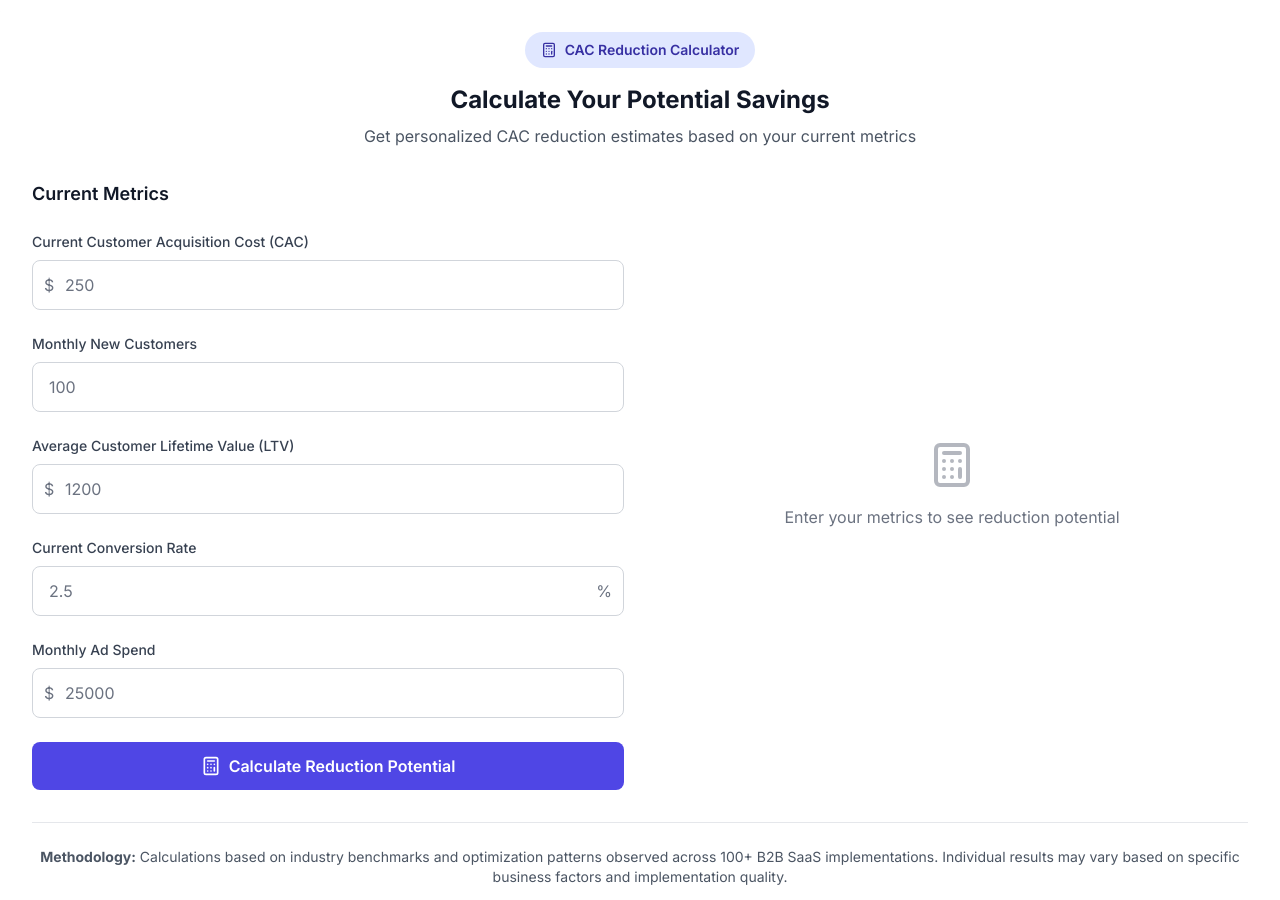
Test: CACReductionCalculator › displays current and optimized CAC values correctly
Fill inputs with known values
Type "200" into the number field with placeholder "250". click: (328, 285)
box: [32, 260, 624, 310]
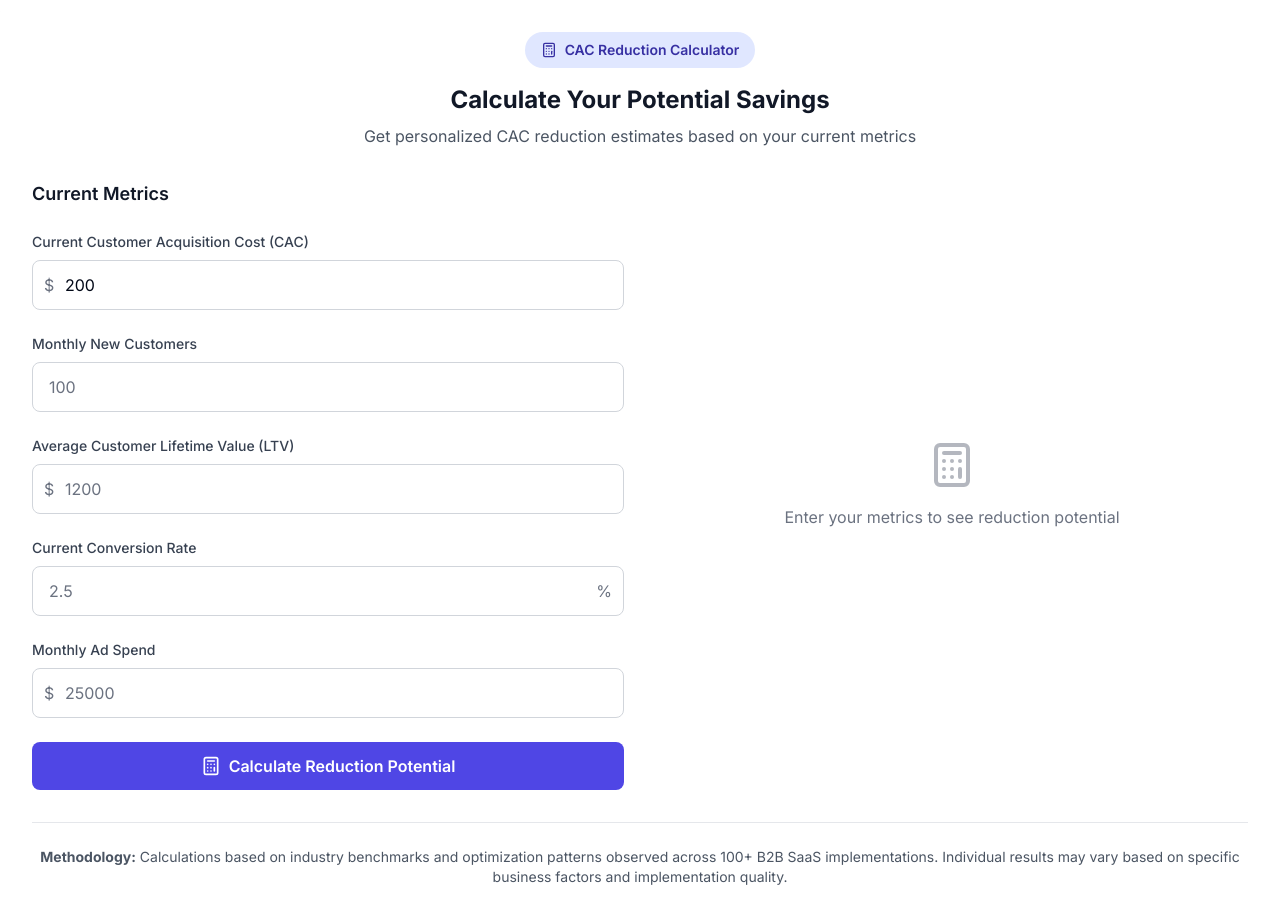
Type "50" into the number field with placeholder "100". click: (328, 387)
box: [32, 362, 624, 412]
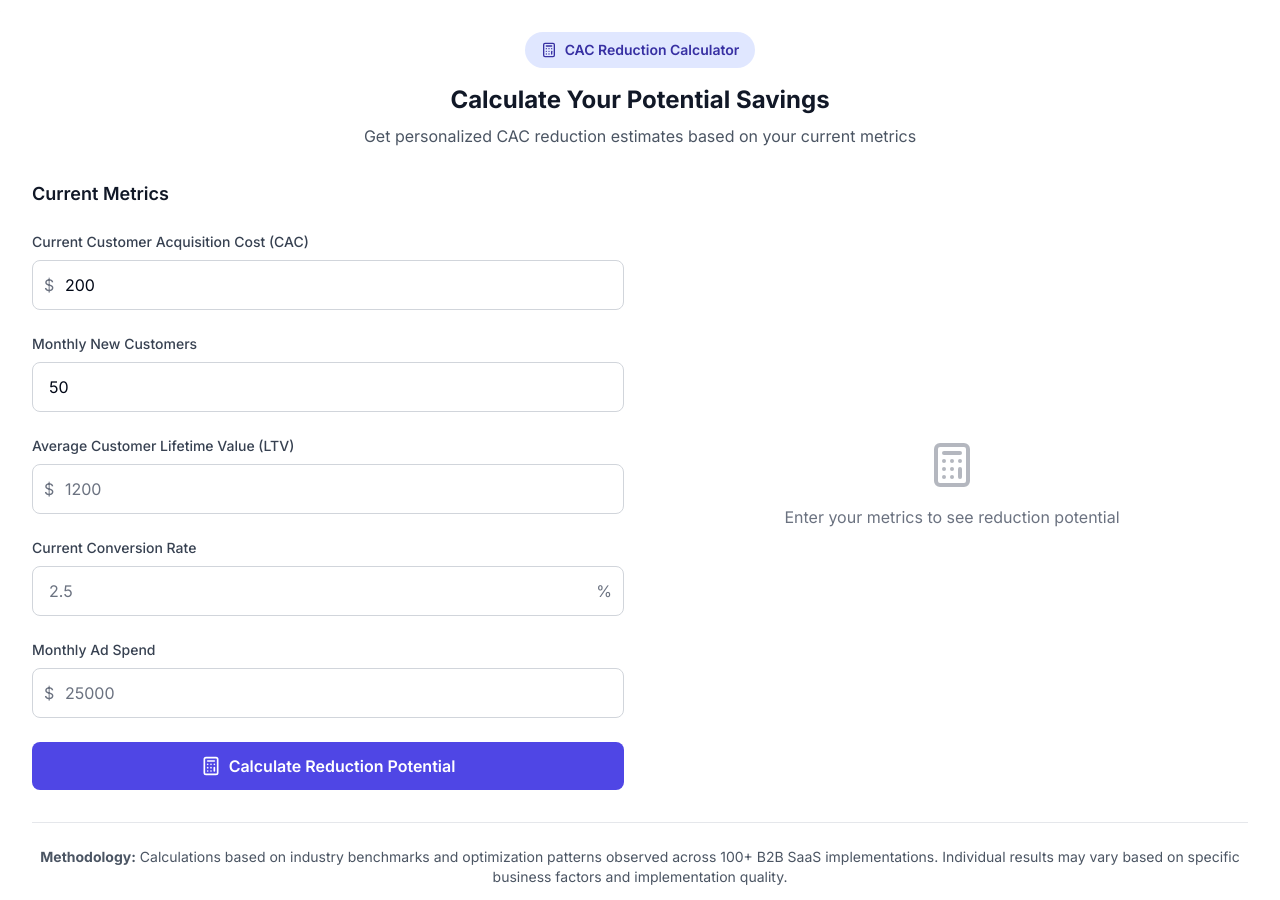
Type "1000" into the number field with placeholder "1200". click: (328, 489)
box: [32, 464, 624, 514]
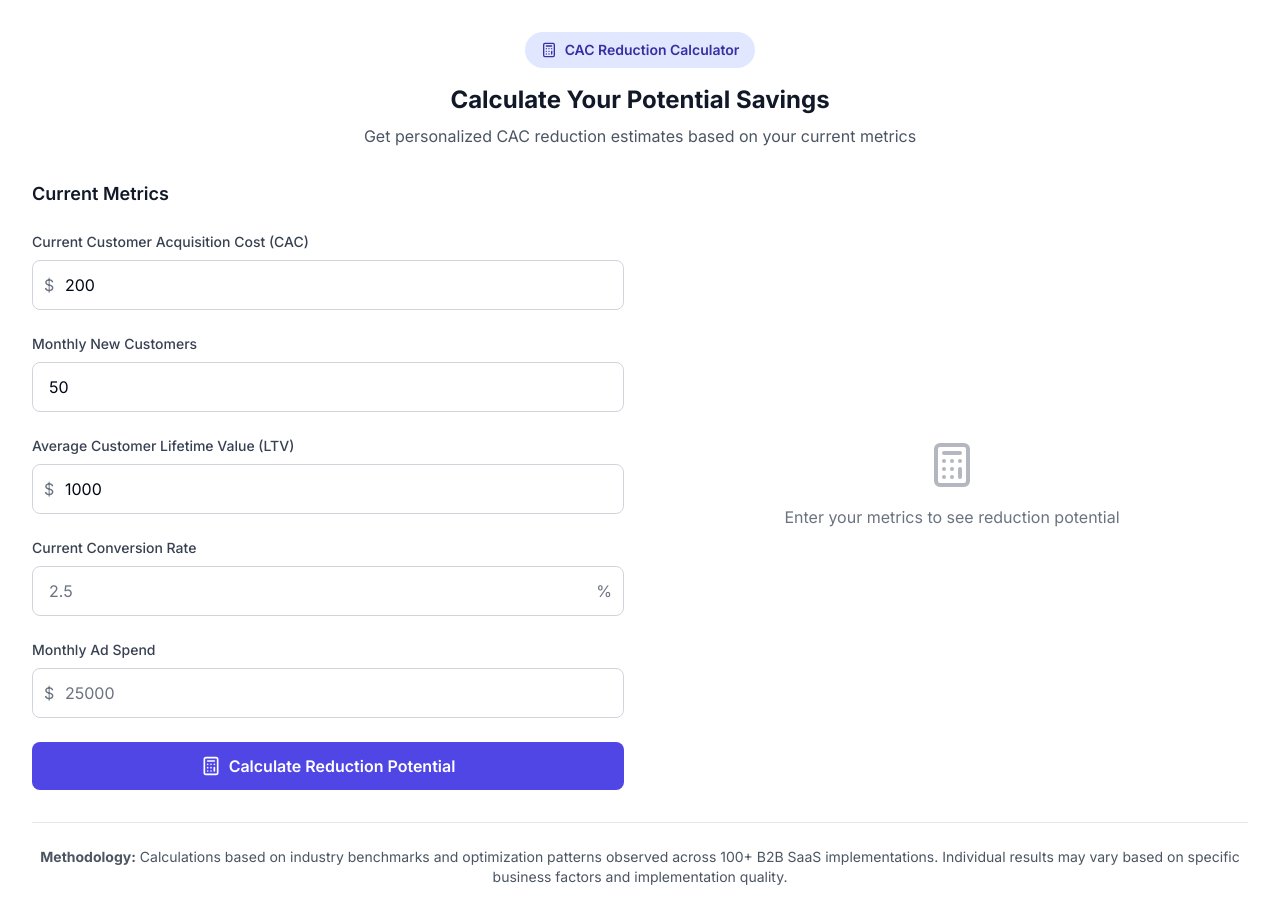
Type "2" into the number field with placeholder "2.5". click: (328, 591)
box: [32, 566, 624, 616]
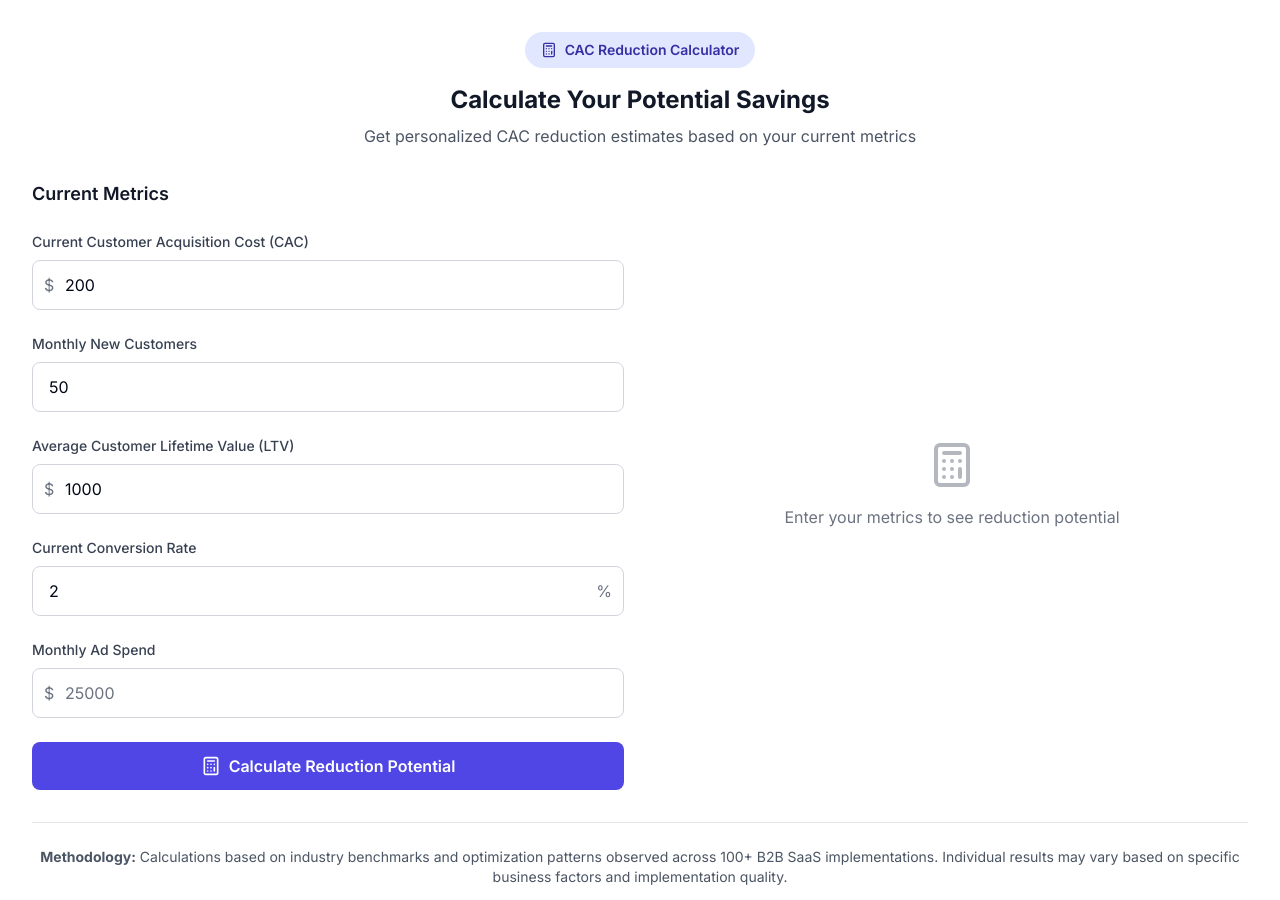
Type "10000" into the number field with placeholder "25000". click: (328, 693)
box: [32, 668, 624, 718]
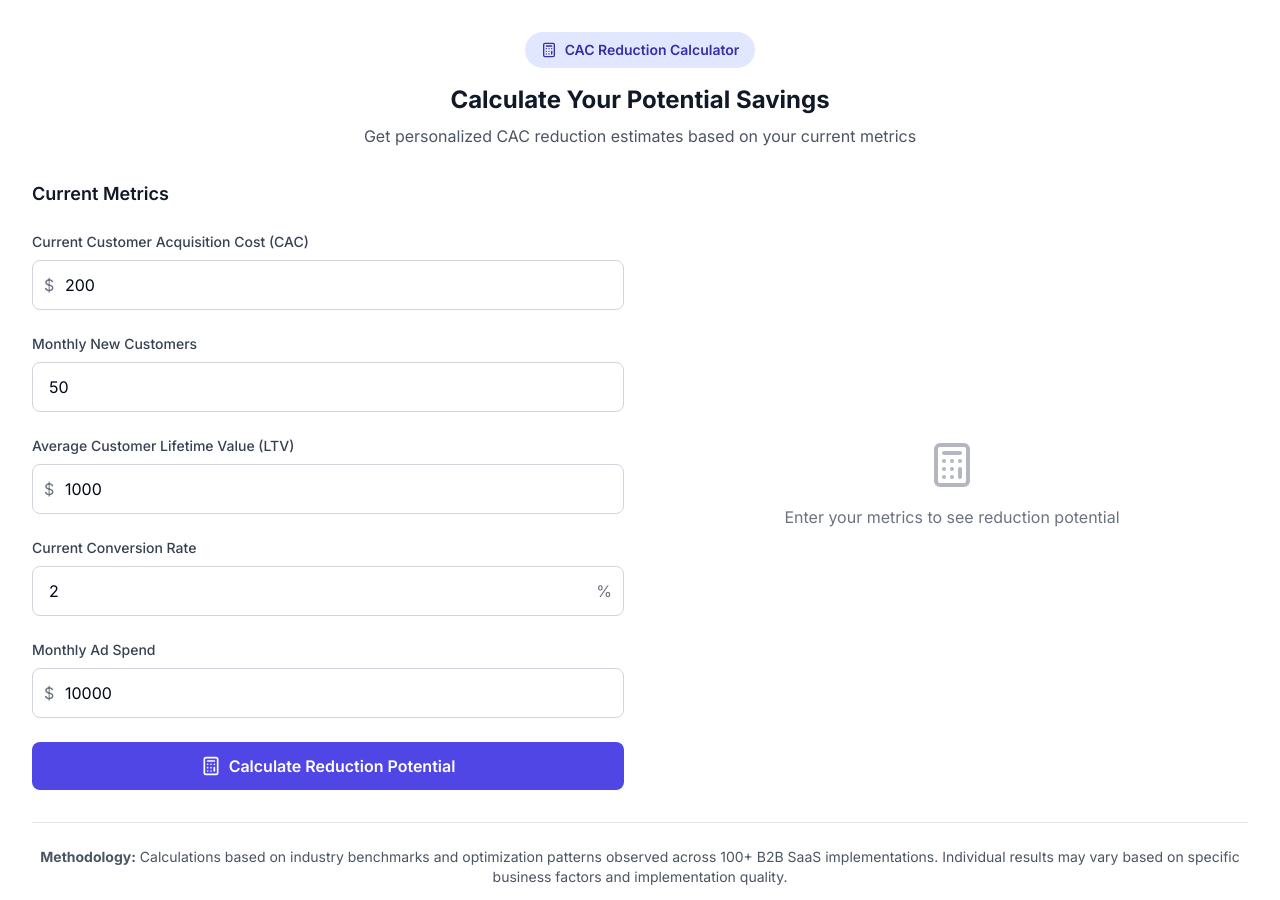
Click the button "Calculate Reduction Potential". click: (328, 766)
box: [32, 742, 624, 790]
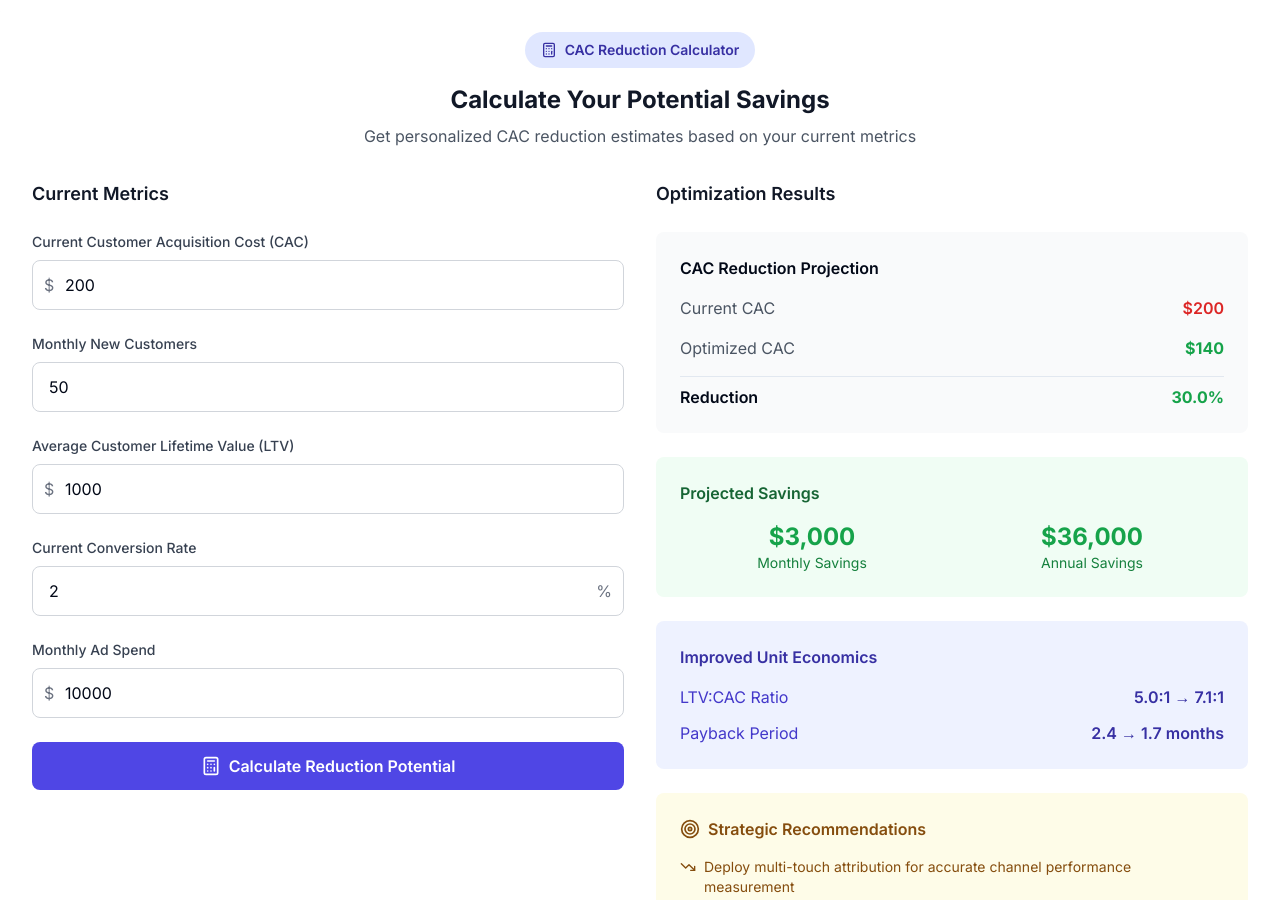
Expected: the text "Current CAC" is shown, [680, 296, 775, 320]
Expected: the text "Optimized CAC" is shown, [680, 336, 795, 360]
Expected: the text "$200" is shown, [1182, 296, 1224, 320]
